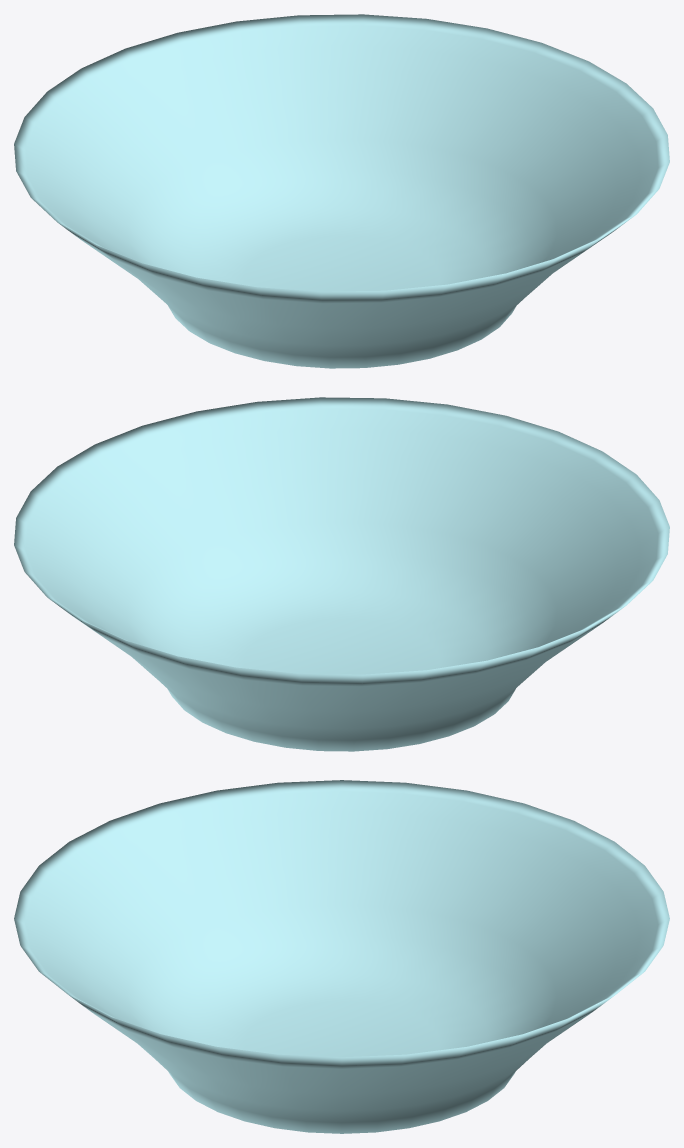
File: Bowl.fbx
The picture shows the model from 3 angles, top to bottom: view 1: azimuth 30°, elevation 25°; view 2: azimuth 150°, elevation 25°; view 3: azimuth 270°, elevation 25°; orthographic projection.
Visible parts, largest first — view 1: Cylinder; view 2: Cylinder; view 3: Cylinder.
Part boxes in pixels (x1,y1,x2,y2): Cylinder: (14,14,669,368); Cylinder: (14,397,669,751); Cylinder: (14,780,669,1133).
Bounding box in the file's own units: 506 × 506 × 120.
